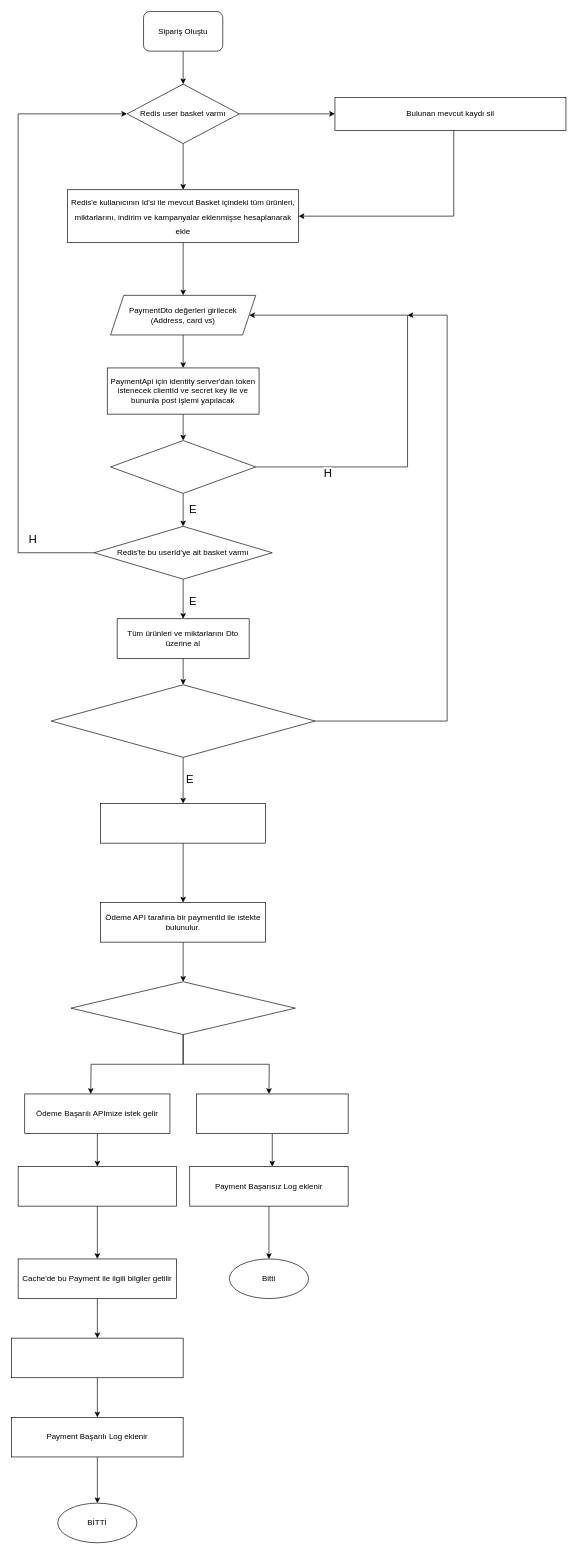
The diagram is 578 pixels wide and 1554 high, and some of its shapes have lost their labels. The centre of each missing label's shape, as x and y in pixels:
FluentValidation ?: the point at 183,466
İndirim kodu ve mevcut kampanyalar ile total price uyuyor mu?: the point at 182,720
PaymentId ye ait status true yapılır: the point at 97,1186
RabbitMQ ile Order tablosuna ekleme yapılır: the point at 97,1357
Status false olarak Payment eklenir DB'ye: the point at 183,823
Ödeme başarılı mı?: the point at 182,1008
Ödeme başarısız APİmize istek gelir: the point at 272,1113
